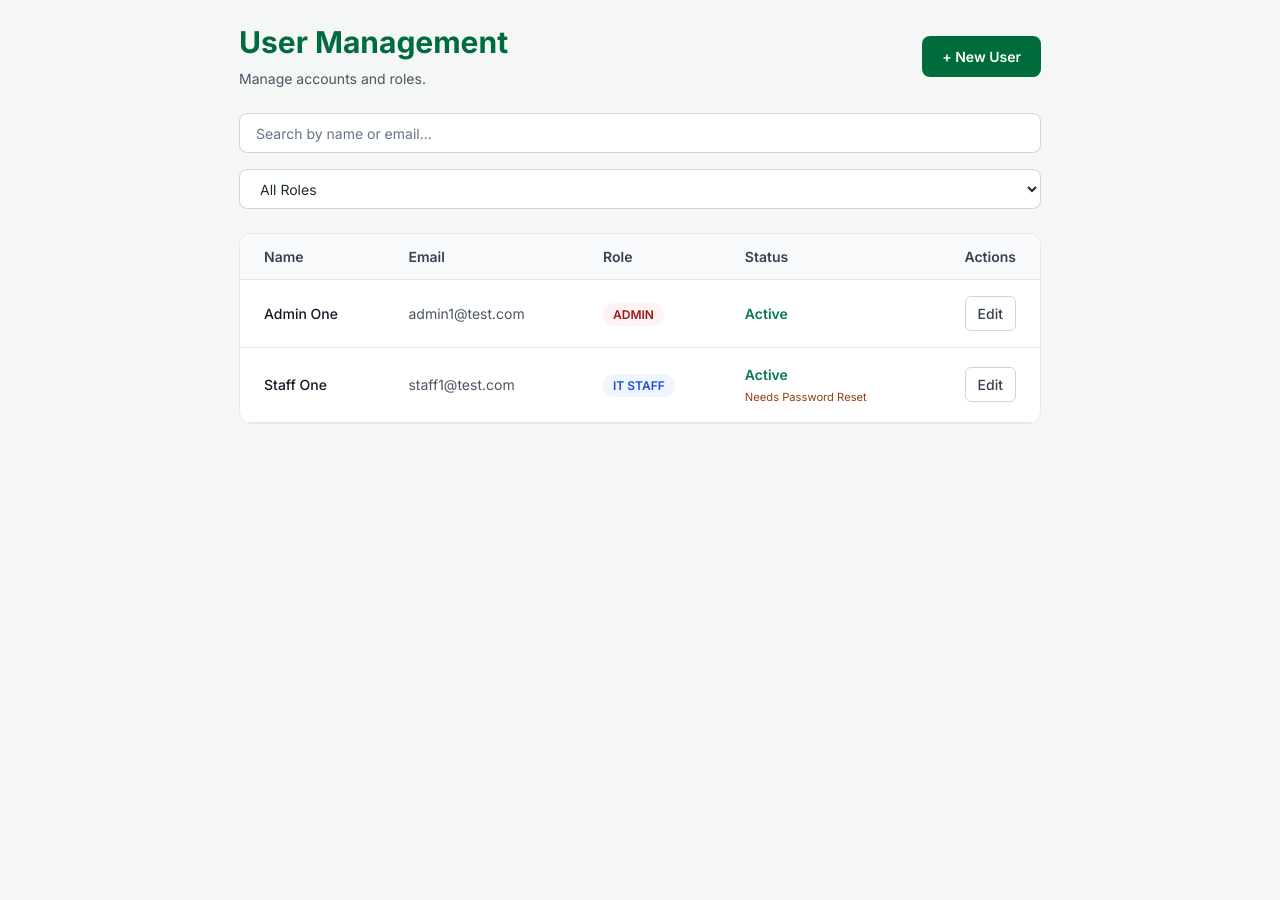
Test: Admin User Management (E2E Overview in UI) › should edit user and reset password
The image size is (1280, 900).
Expected: the text "Admin One" is shown, [240,280,384,348]
Click the button "Edit" in the row of "Staff One" at (990, 385), box [965,367,1016,402]
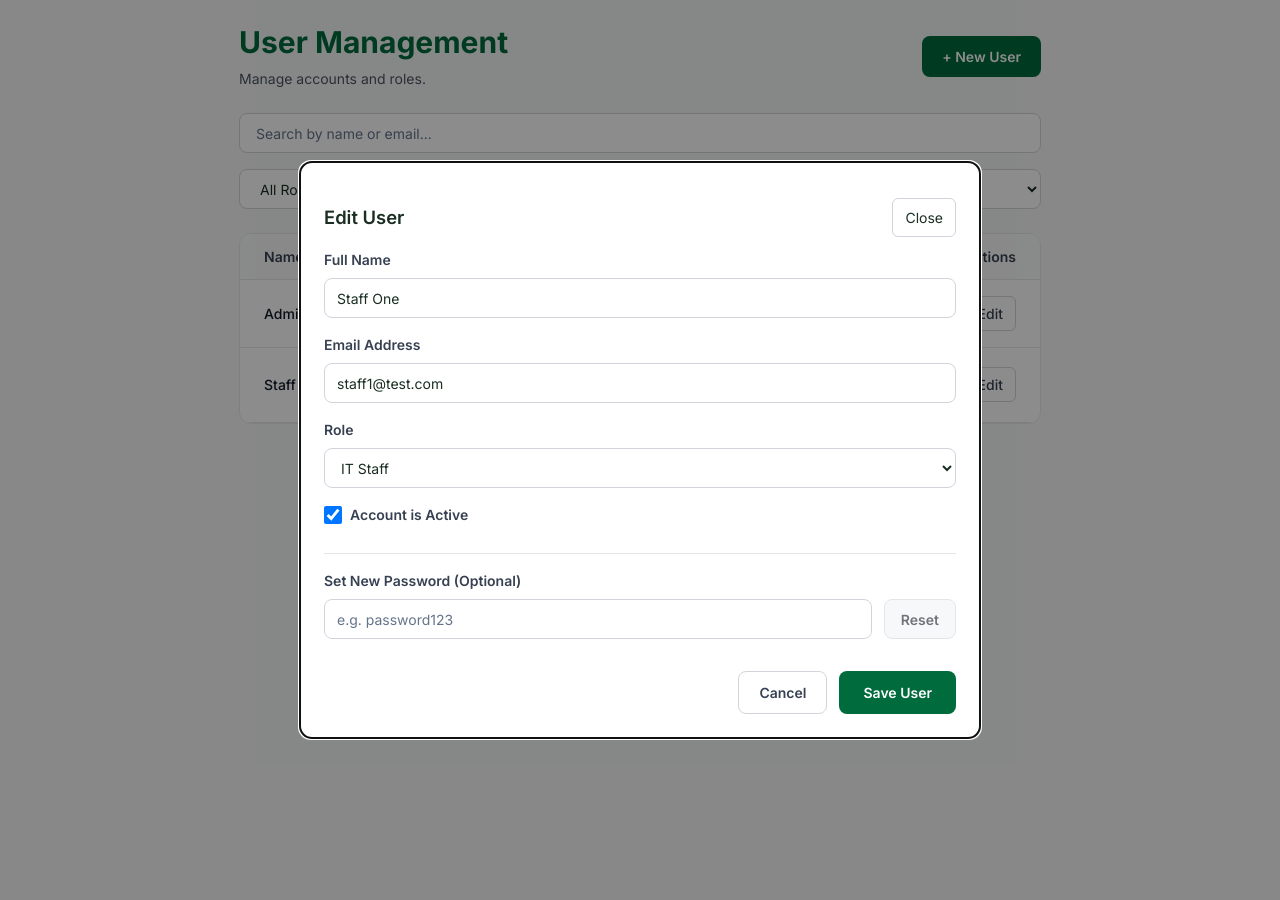
Expected: the heading "Edit User" is shown, [324,206,404,229]
Replace the text in the field labelled "Full Name" with "Staff One Updated" at (640, 298), box [324,278,956,318]
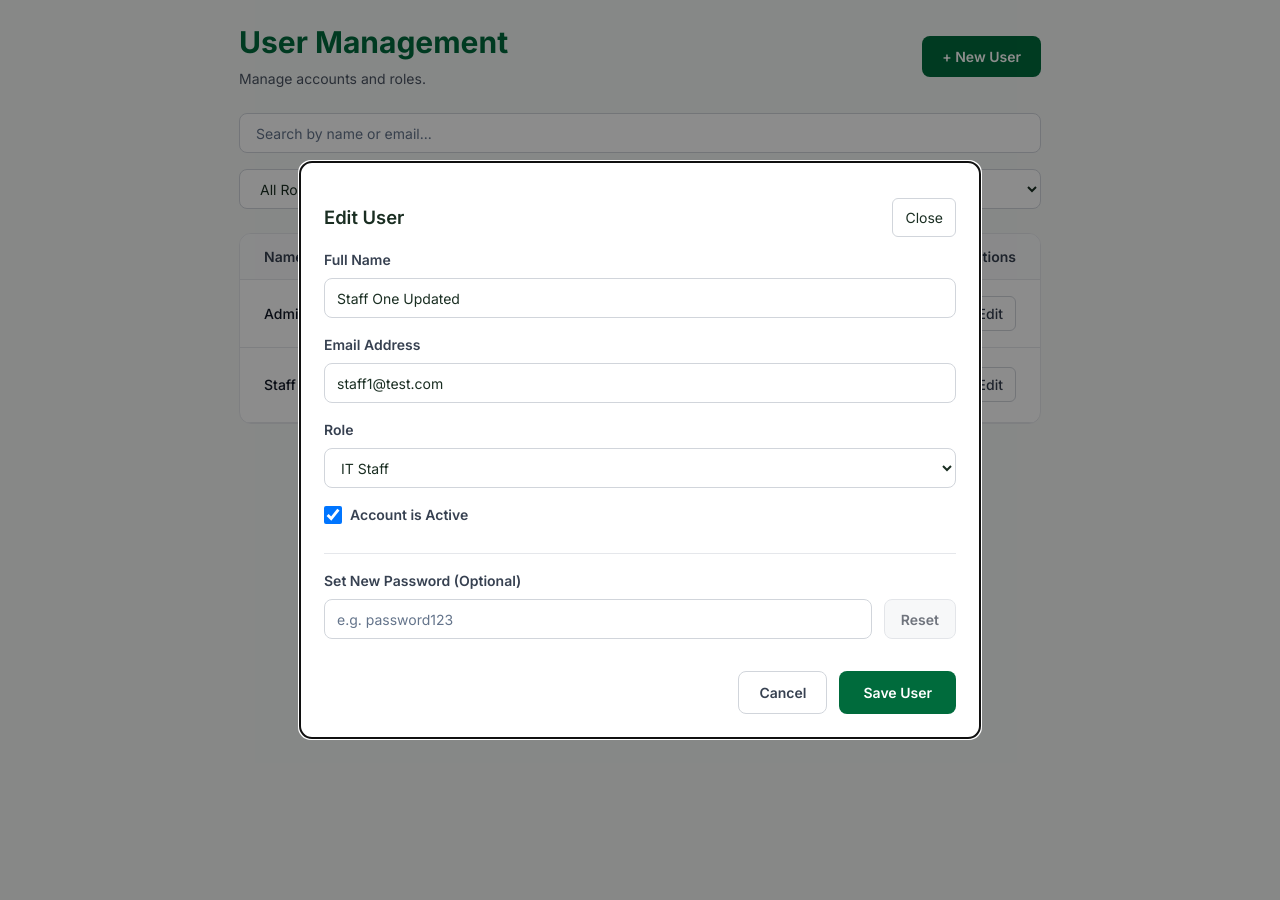
Click the button "Save User" at (898, 692), box [840,671,956,714]
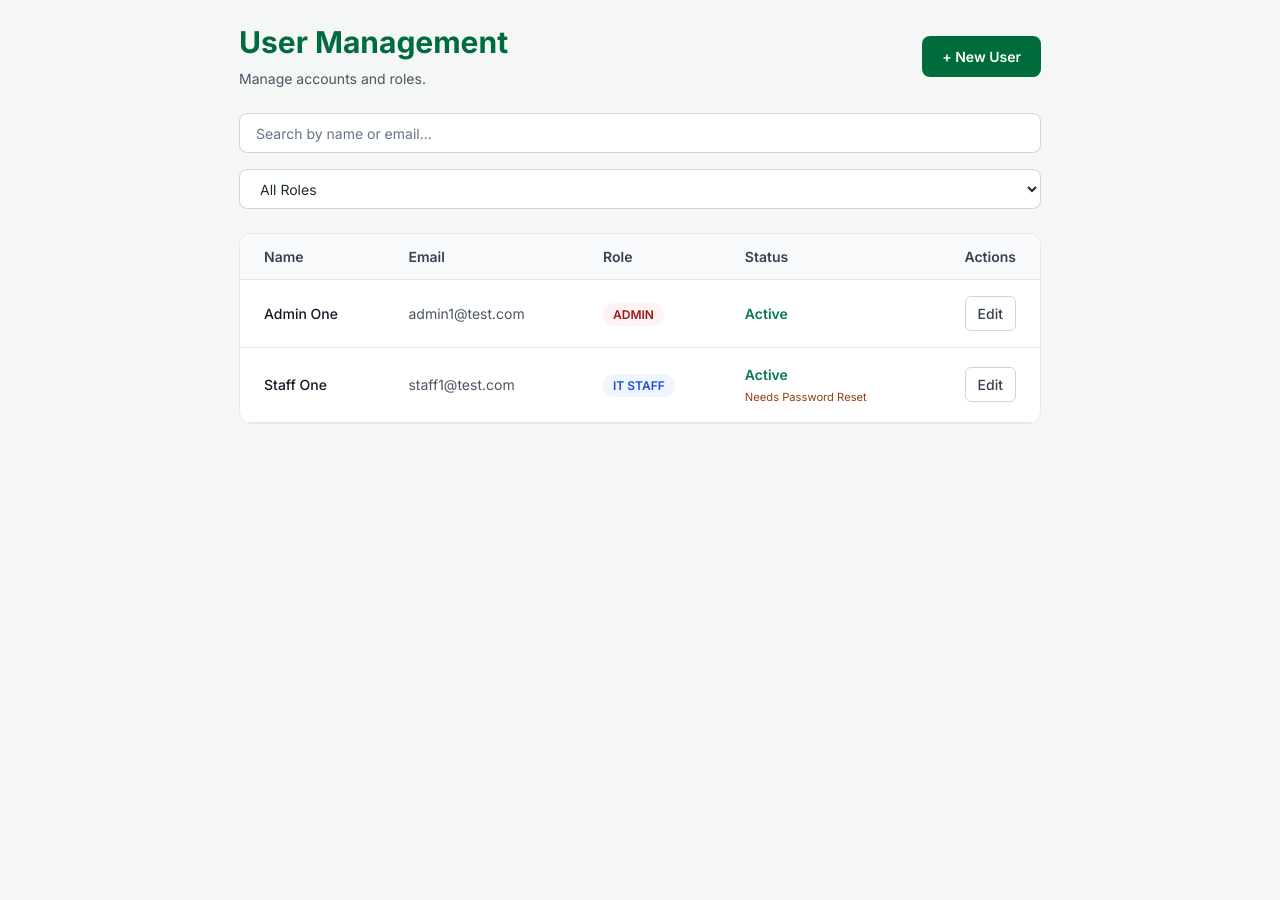
# Open edit again to test reset password
Click the button "Edit" in the row of "Staff One" at (990, 385), box [965,367,1016,402]
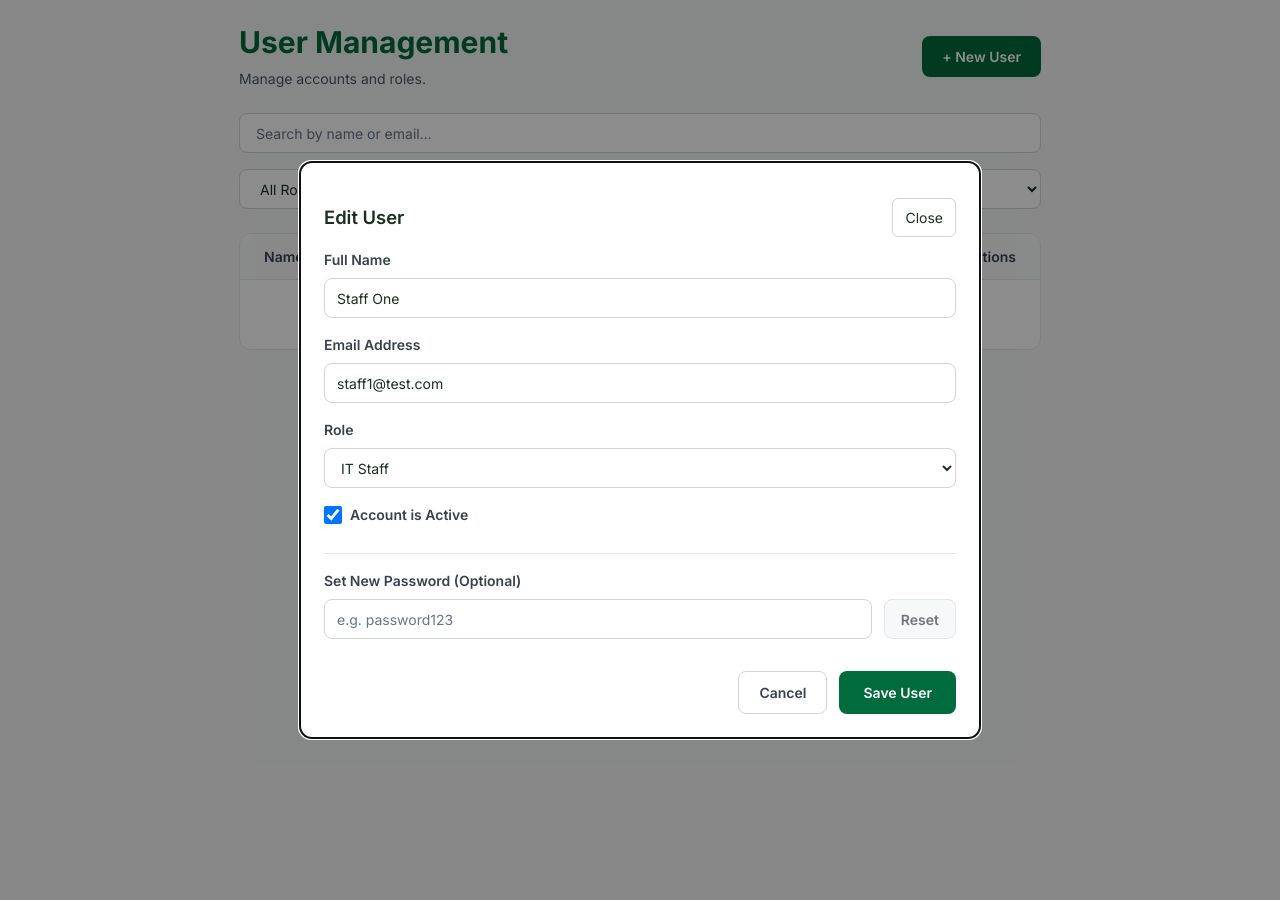
Type "newpass" into the field with placeholder "e.g. password123" at (598, 619), box [324,599,872,639]
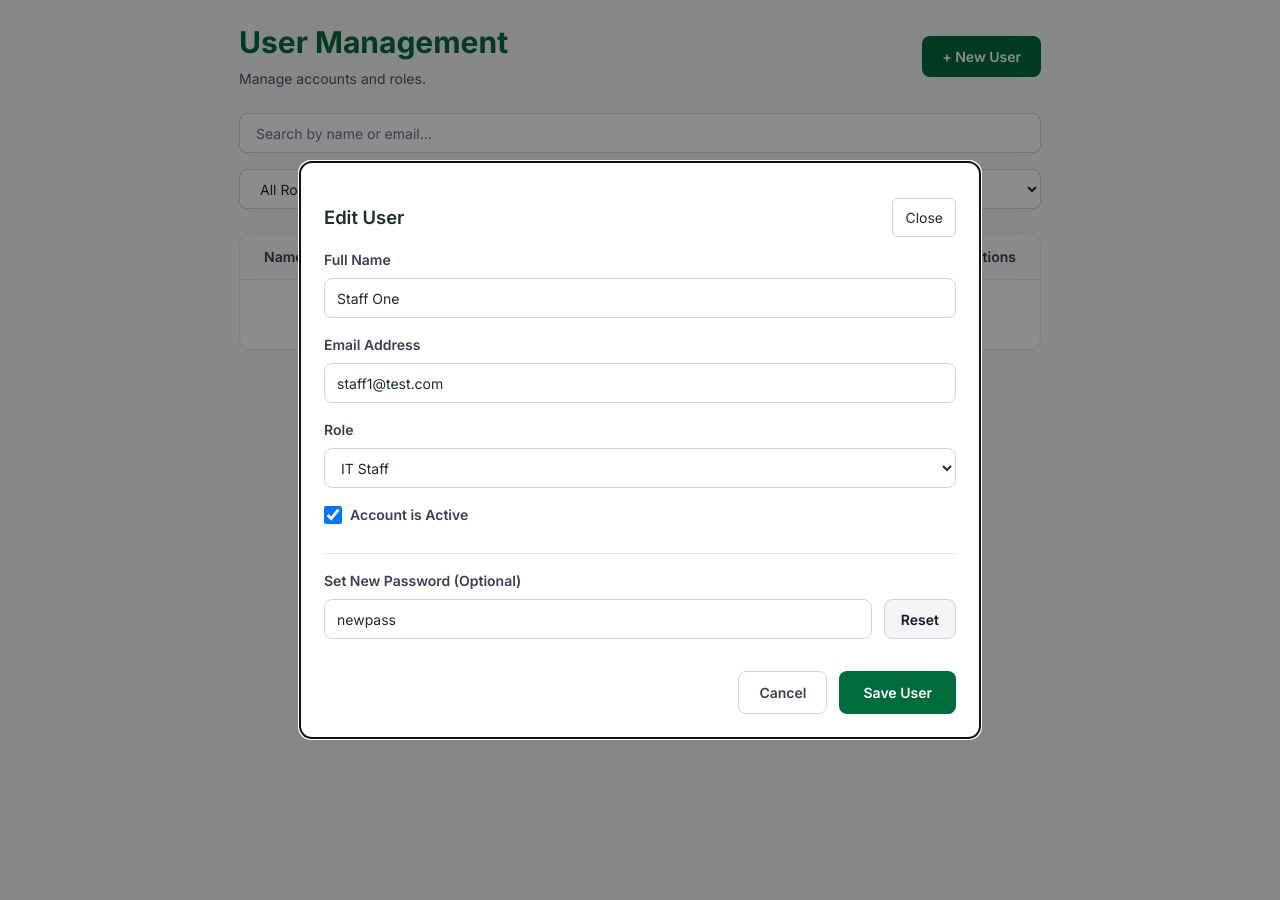
Click the button "Reset" at (920, 619), box [884,599,956,639]
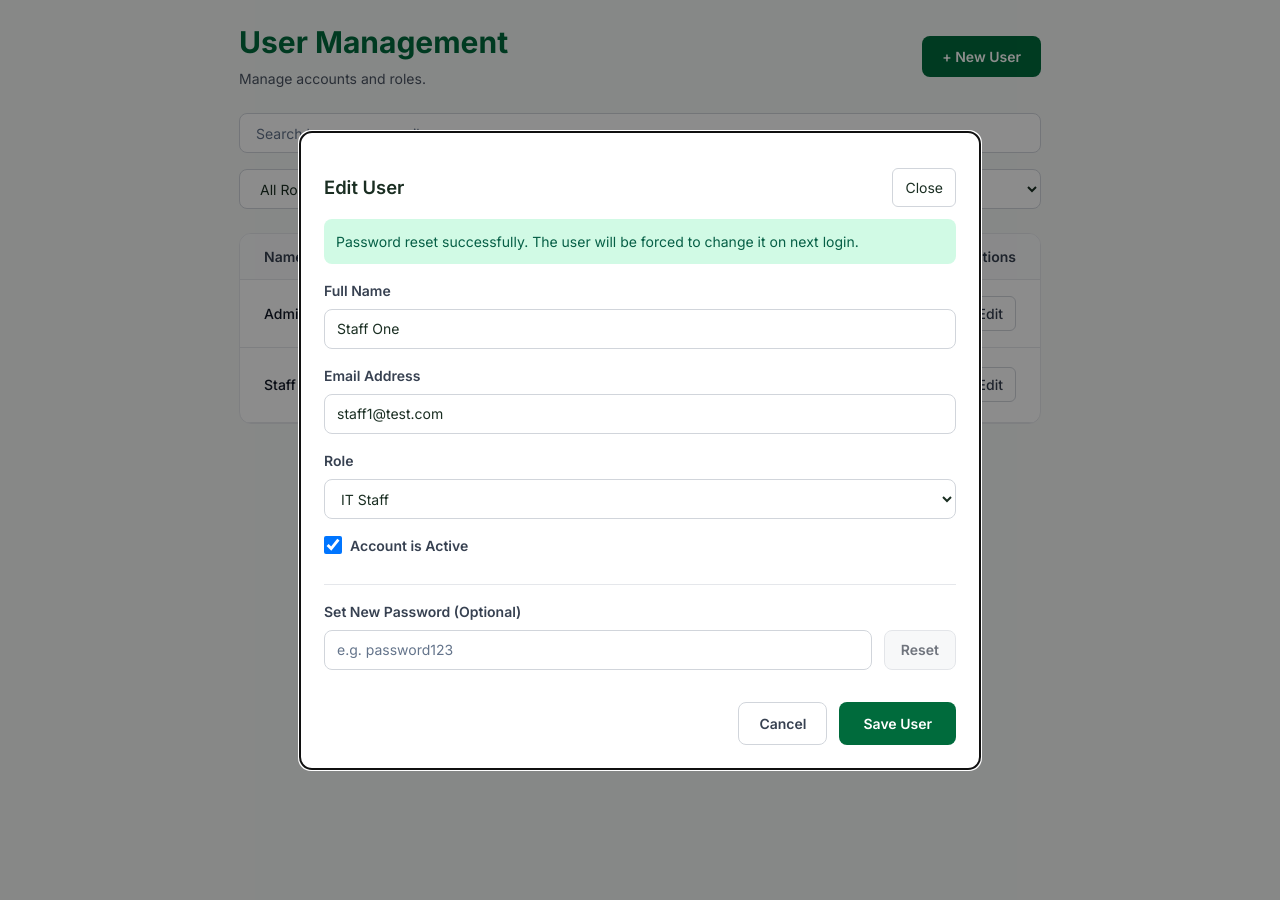
Expected: the text "Password reset successfully" is shown, [336,232,859,250]
